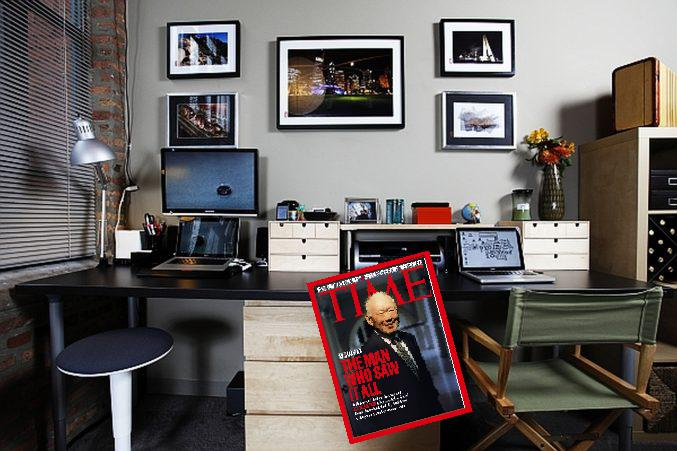times: (306, 249, 474, 444)
